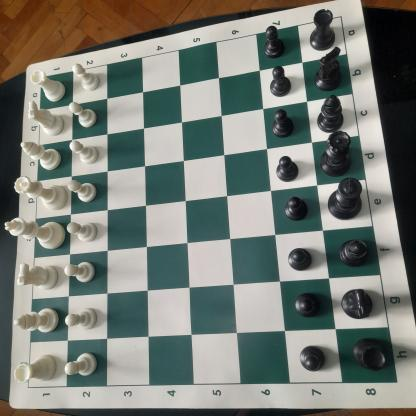black-bishop: (314, 94, 346, 135), (338, 236, 370, 268)
black-king: (325, 176, 365, 224)
black-knight: (312, 46, 344, 92), (339, 286, 376, 322)
black-pawn: (296, 340, 328, 374), (265, 63, 294, 100), (259, 24, 287, 60), (295, 291, 324, 321), (282, 193, 310, 224), (269, 107, 296, 139), (274, 154, 301, 184), (286, 245, 315, 272)
black-queen: (317, 130, 353, 178)
black-rook: (350, 336, 392, 374), (308, 7, 340, 51)
white-bishop: (18, 137, 64, 173), (11, 308, 61, 338)
white-king: (4, 213, 68, 254)
white-knight: (24, 98, 68, 138), (15, 259, 62, 293)
white-pawn: (62, 349, 100, 382), (64, 305, 99, 334), (66, 138, 102, 166), (64, 218, 101, 245), (72, 61, 102, 94), (69, 99, 100, 129), (68, 178, 102, 204), (63, 261, 98, 286)
white-queen: (10, 174, 70, 213)
white-rook: (28, 66, 68, 104), (14, 353, 60, 386)
